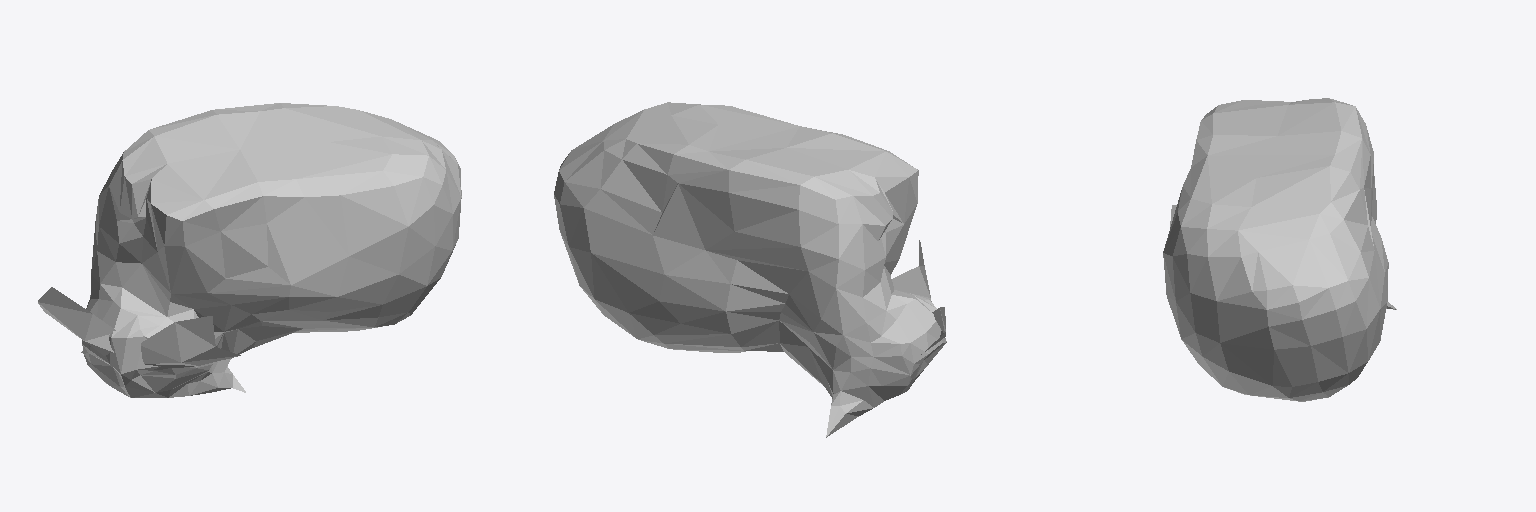
3 renders of one model, left to right at view 1: azimuth 30°, elevation 25°; view 2: azimuth 150°, elevation 25°; view 3: azimuth 270°, elevation 25°, orthographic.
Visible parts, largest first — view 1: dingus; view 2: dingus; view 3: dingus.
Part boxes in pixels (bbox=[...]): dingus: bbox=[38, 103, 461, 397]; dingus: bbox=[554, 102, 946, 437]; dingus: bbox=[1163, 98, 1396, 401].
Bounding box in the file's own units: 12.56 × 7.31 × 6.41.